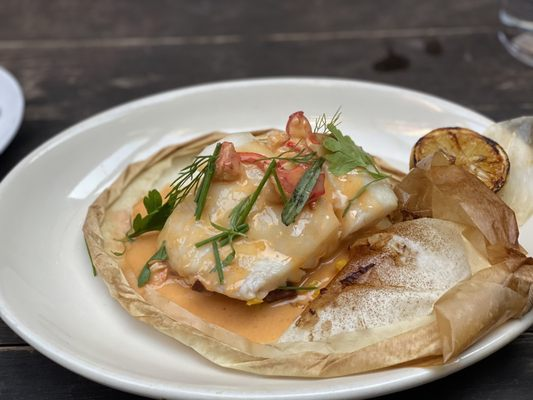pizza: (496, 0, 533, 68)
soup: (84, 106, 525, 379)
